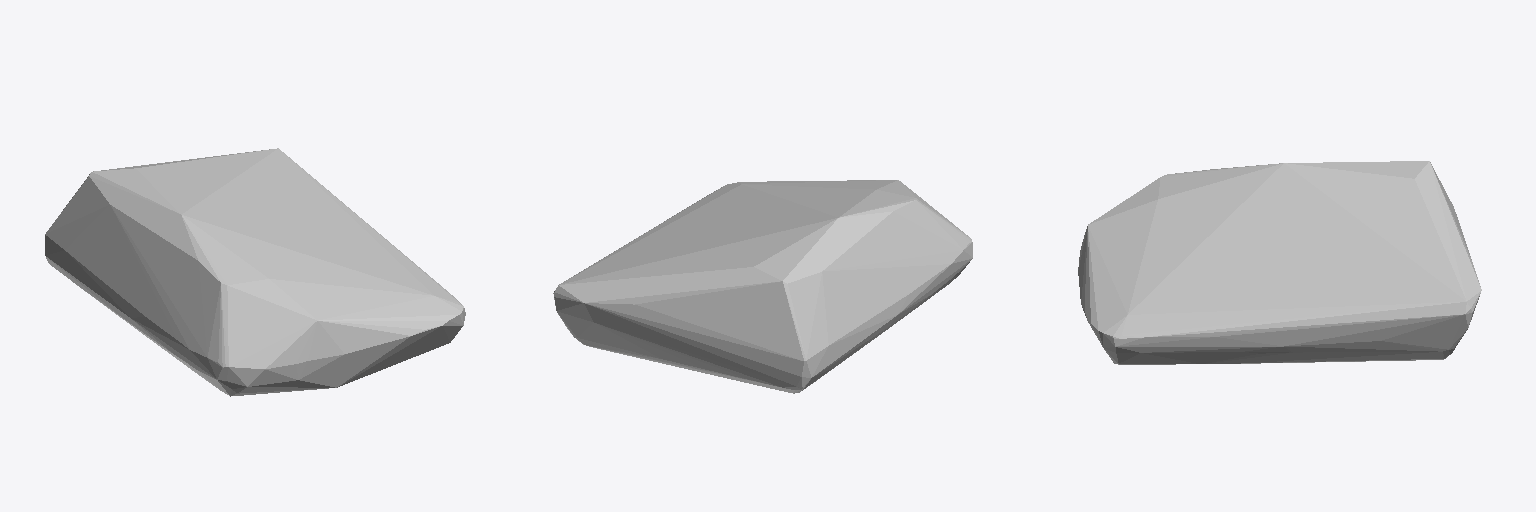
Rendered from telephone_collision.obj.
3 views of the same model, side by side, from view 1: azimuth 30°, elevation 25°; view 2: azimuth 150°, elevation 25°; view 3: azimuth 270°, elevation 25° (orthographic).
Size of the model in its own units: 0.0694 by 0.0299 by 0.095.